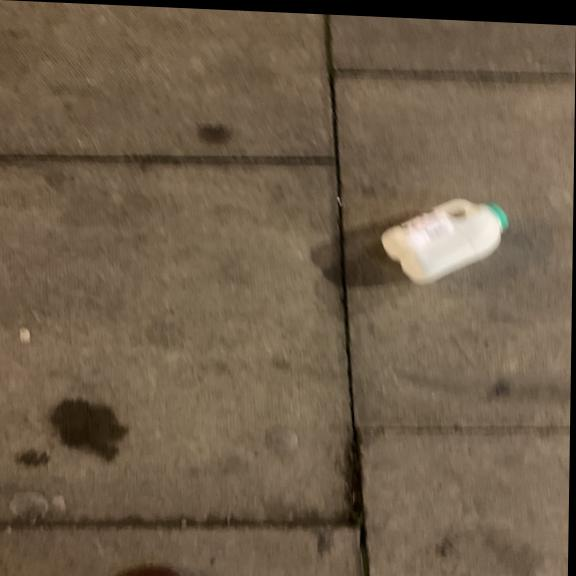Plastik: (376, 195, 510, 289)
